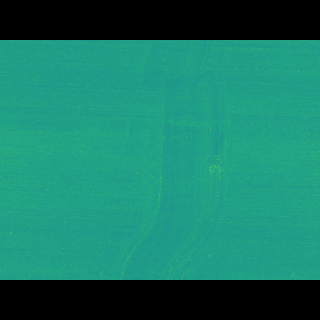Loch: (93, 69, 239, 249)
